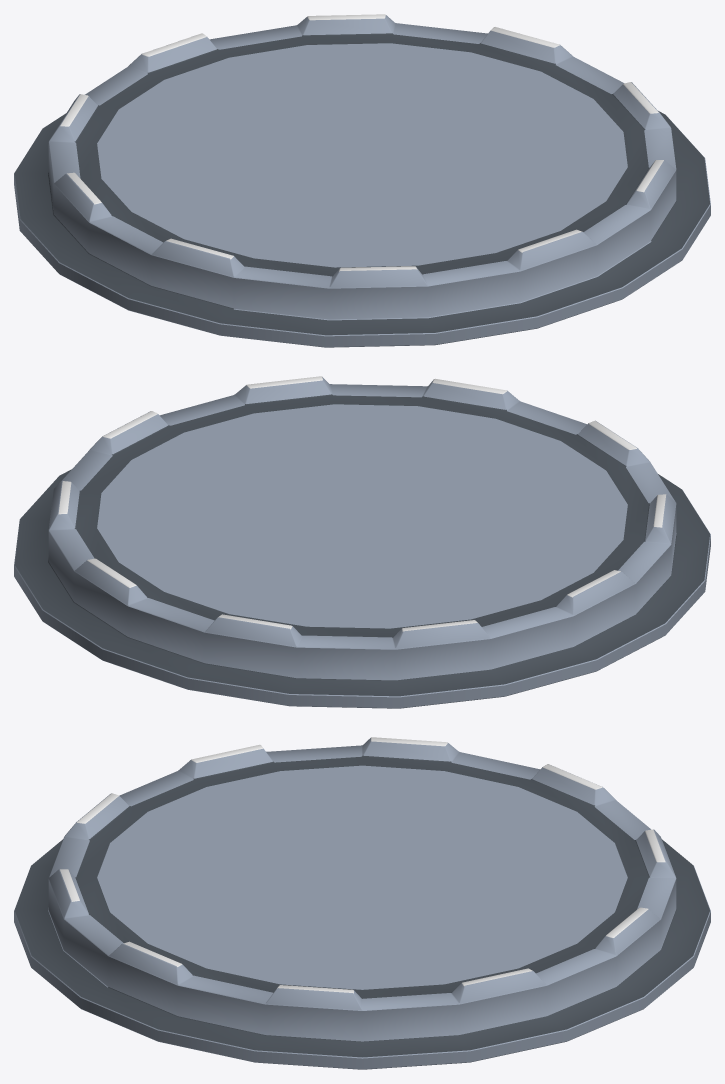
The model's file is landingpad.fbx.
3 renders of one model, top to bottom at view 1: azimuth 30°, elevation 25°; view 2: azimuth 150°, elevation 25°; view 3: azimuth 270°, elevation 25°, orthographic.
Parts seen in each view (by area): view 1: pad; view 2: pad; view 3: pad.
Part boxes in pixels (x1,y1,x2,y2): pad: (14, 14, 710, 347); pad: (14, 376, 710, 708); pad: (14, 737, 710, 1069).
Bounding box in the file's own units: 91.24 × 91.24 × 23.24.
